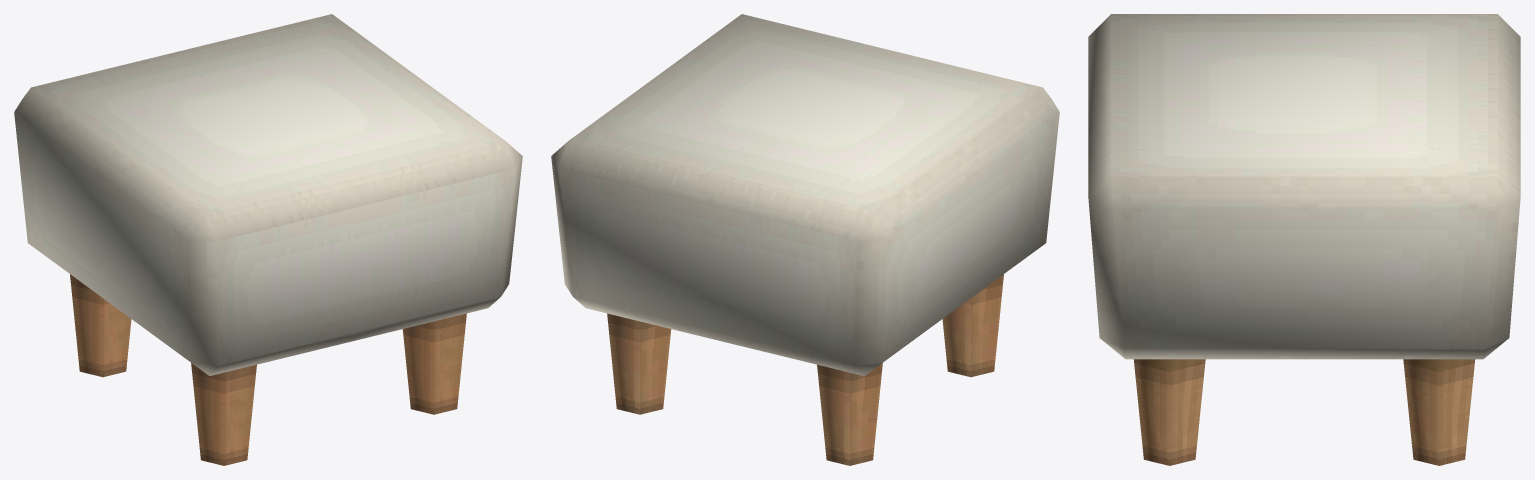
Rendered from rmk_smp_ottoman.dae.
The picture shows the model from 3 angles, left to right: view 1: azimuth 30°, elevation 25°; view 2: azimuth 150°, elevation 25°; view 3: azimuth 270°, elevation 25°; orthographic projection. The views are drawn at different scales.
Visible parts, largest first — view 1: rmk_smp_ottoman; view 2: rmk_smp_ottoman; view 3: rmk_smp_ottoman.
Boxes of the visible parts, x1,y1,x2,y2 form: rmk_smp_ottoman: (14,14,522,465); rmk_smp_ottoman: (551,14,1059,465); rmk_smp_ottoman: (1088,14,1520,465).
Bounding box in the file's own units: 20.84 × 16.2 × 20.84.
Materials: 2 (2 with a texture image).
